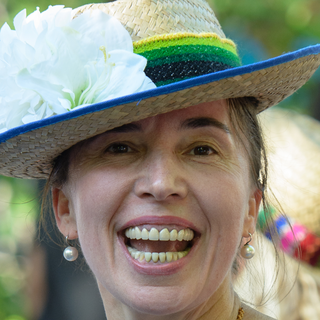eye: (179, 136, 231, 164), (96, 138, 146, 162)
